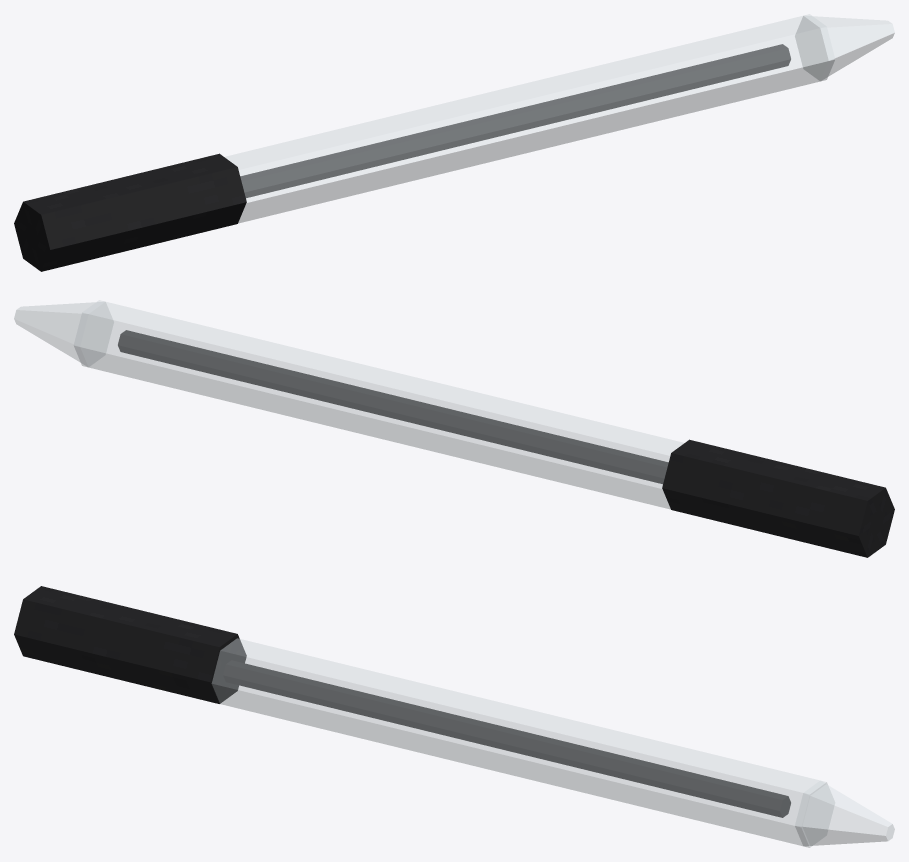
Rendered from black_pen.glb.
3 views of the same model, one above another, from view 1: azimuth 30°, elevation 25°; view 2: azimuth 150°, elevation 25°; view 3: azimuth 330°, elevation 25° (orthographic).
Visible parts, largest first — view 1: block_barrel, block_cap, block_refill, block_tip; view 2: block_barrel, block_cap, block_refill, block_tip; view 3: block_barrel, block_cap, block_refill, block_tip.
Boxes of the visible parts, x1,y1,x2,y2 form: block_barrel: [225, 14, 835, 223]; block_cap: [14, 153, 246, 271]; block_refill: [240, 44, 790, 197]; block_tip: [795, 16, 894, 80]; block_barrel: [73, 300, 683, 509]; block_cap: [662, 439, 894, 557]; block_refill: [118, 330, 668, 483]; block_tip: [14, 302, 113, 366]; block_barrel: [211, 638, 834, 847]; block_cap: [14, 586, 246, 703]; block_refill: [223, 660, 790, 817]; block_tip: [795, 781, 894, 845].
Size of the model in its own units: 0.131 by 0.00835 by 0.0096.
Materials: 2 (2 with a texture image).
